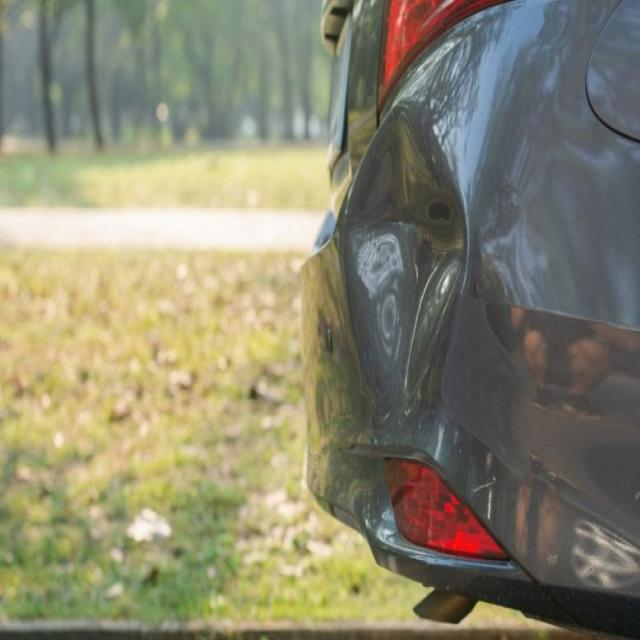dent: (333, 94, 507, 441)
